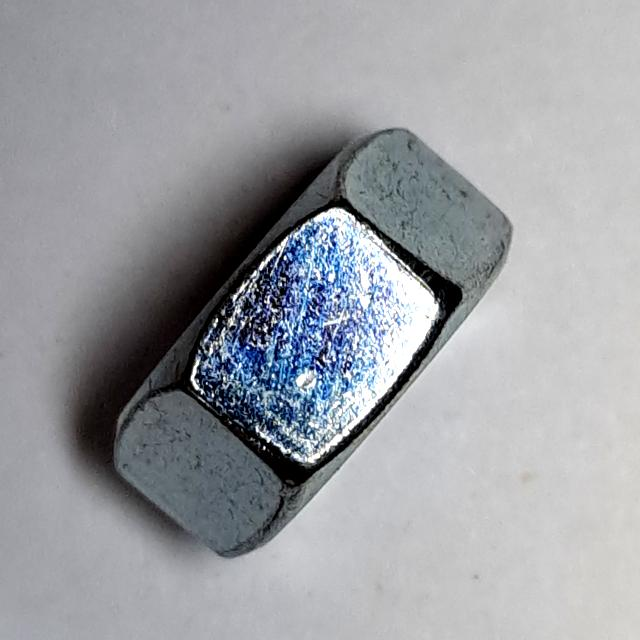Side_Excellent: (100, 111, 528, 579)
